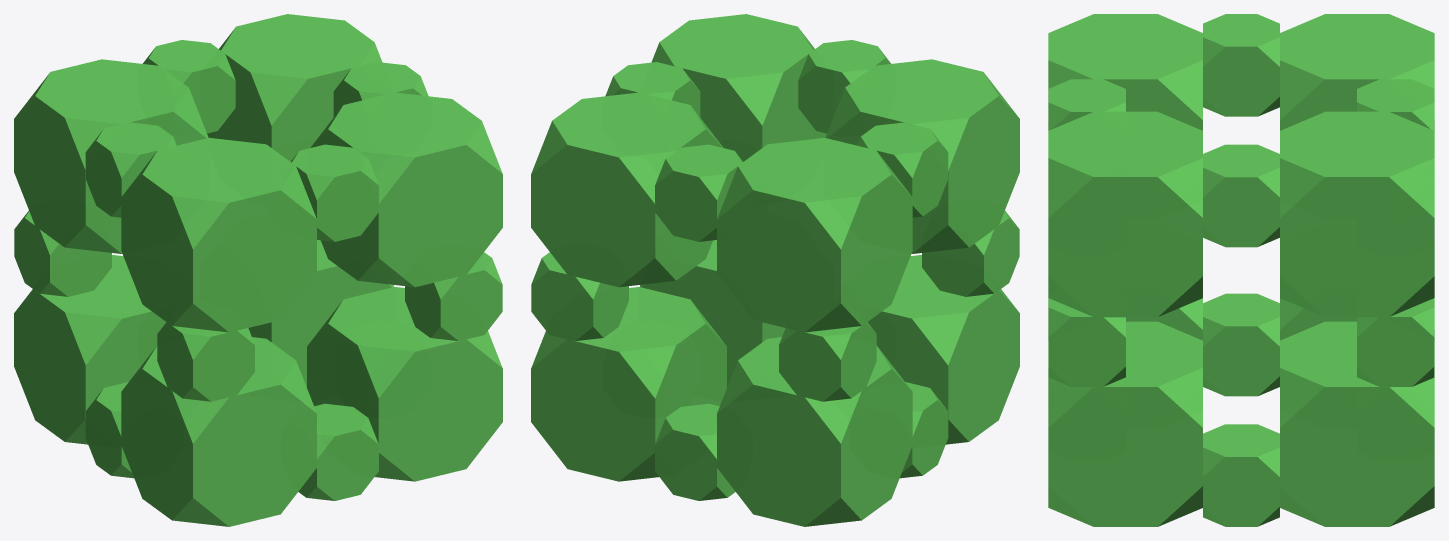
The model's file is fractaltruncatedcube2-1.glb.
3 renders of one model, left to right at view 1: azimuth 30°, elevation 25°; view 2: azimuth 150°, elevation 25°; view 3: azimuth 270°, elevation 25°, orthographic. The views are drawn at different scales.
Bounding box in the file's own units: 7.21 × 7.21 × 7.21.
